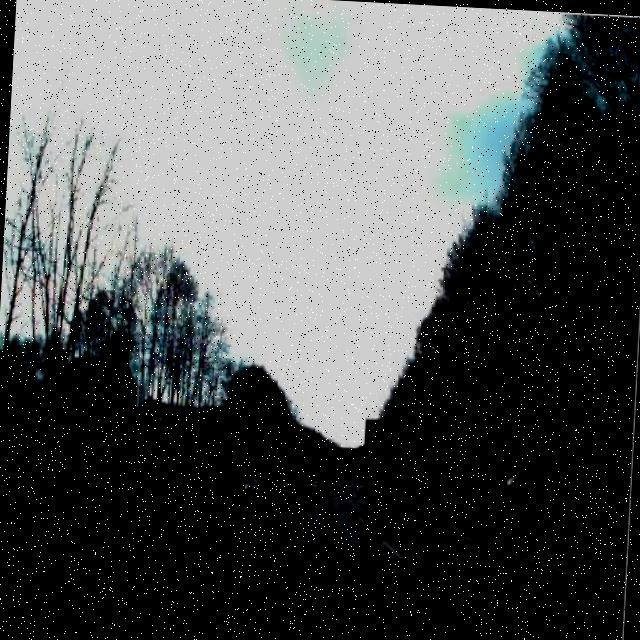Ograniczenie predkosci do 100: (204, 417, 234, 464)
